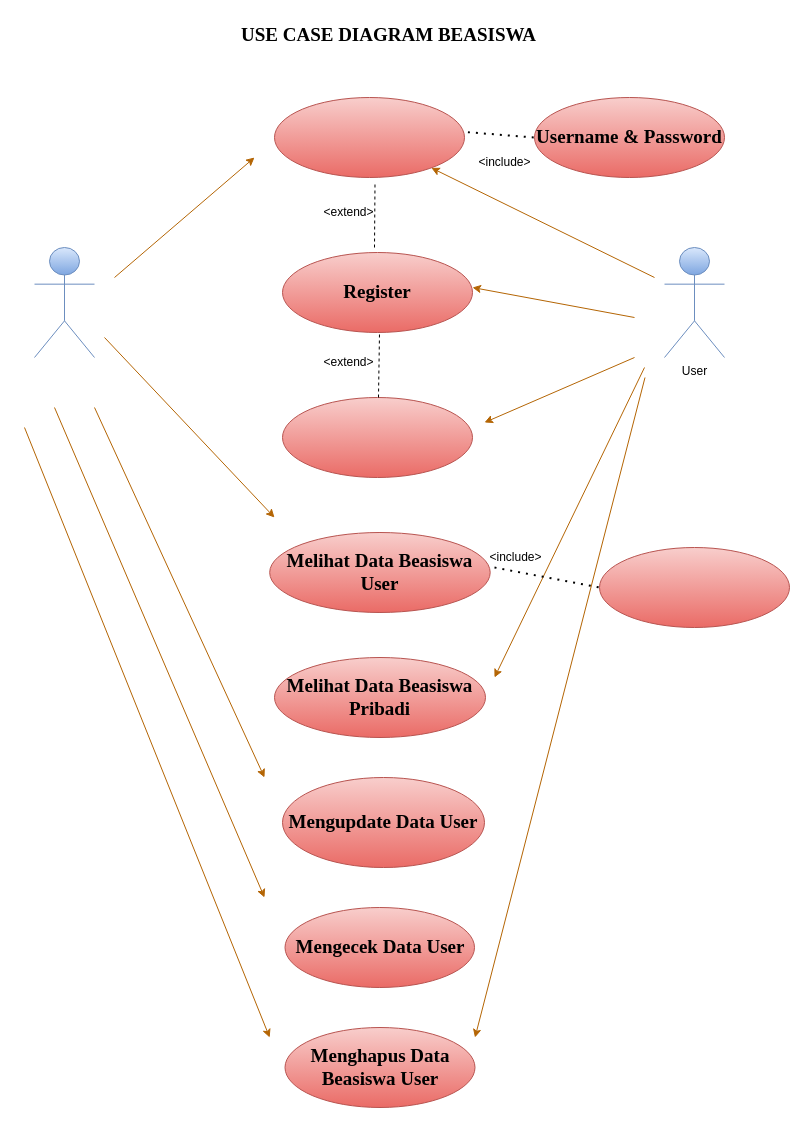
Some shapes in this 807 by 1125 pixel diagram are drawn without their labels. The centre of each missing label's shape, as x and y in pixels:
Admin: pixel 64 302
Login: pixel 369 137
Mendaftar Beasiswa: pixel 377 437
Mengisi Form Pendaftaran: pixel 694 587
